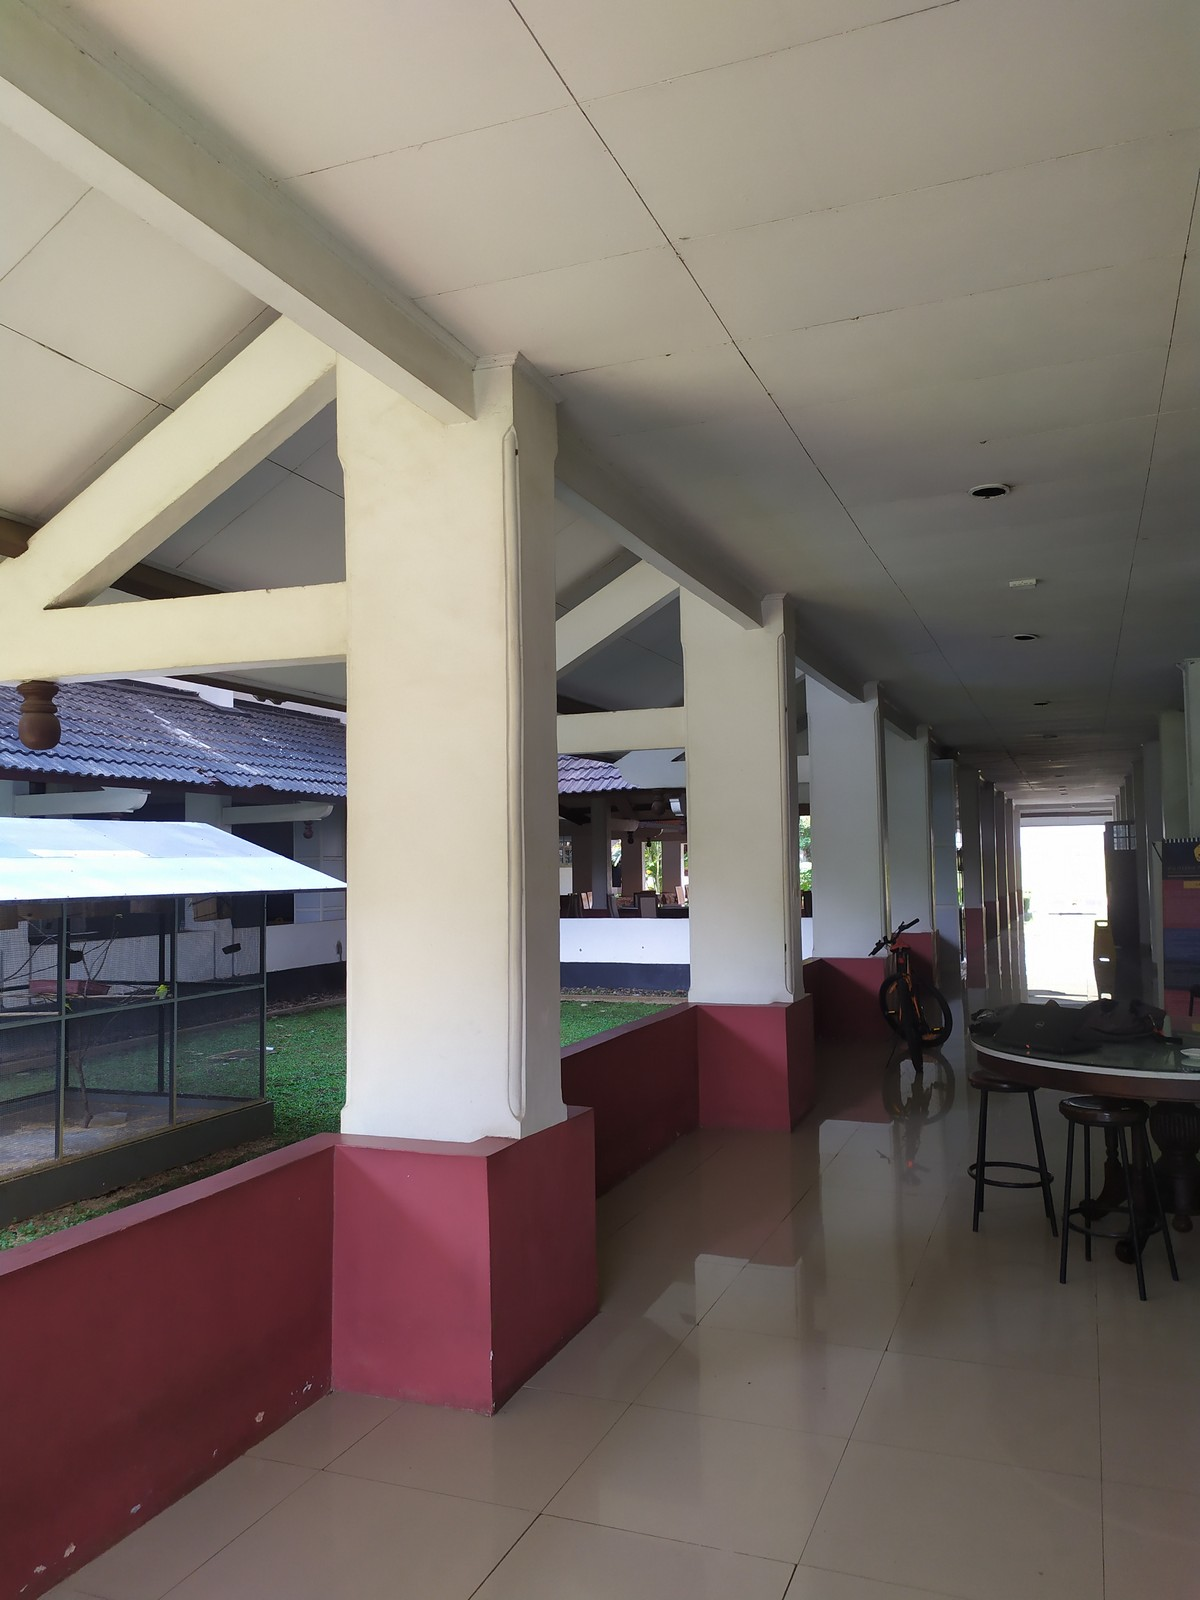concrete beam: (53, 572, 366, 688)
concrete column: (313, 333, 587, 1169), (673, 574, 821, 1012)
